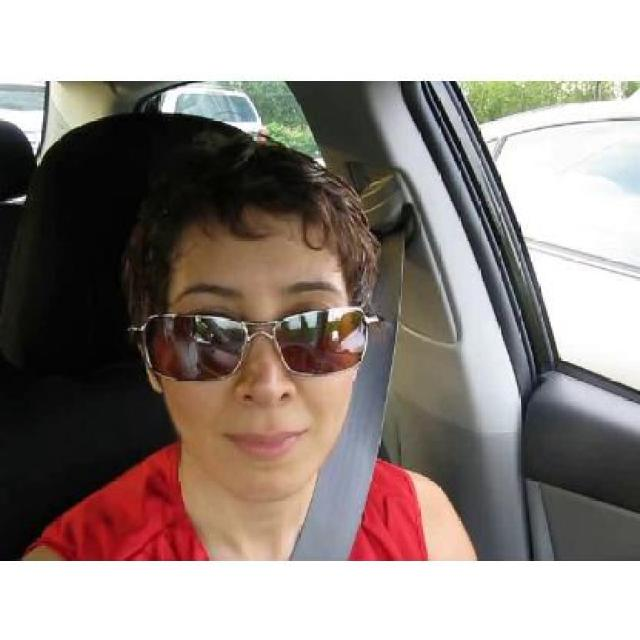attentif: (125, 142, 358, 501)
